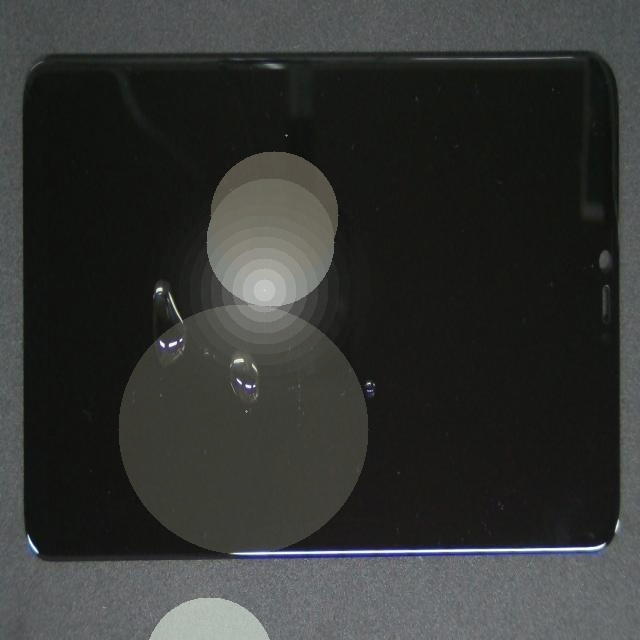oil: (142, 176, 376, 535), (110, 184, 277, 460)
